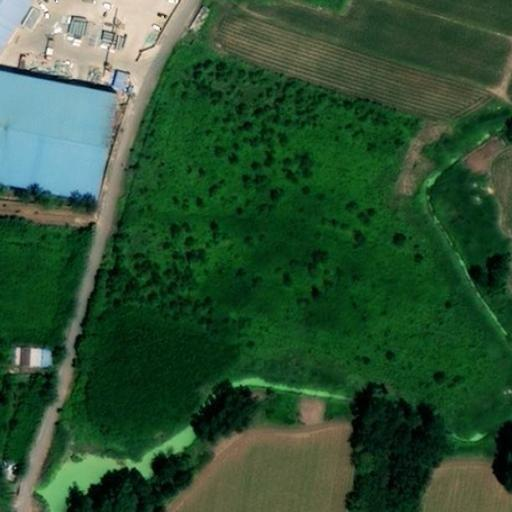building: (0, 91, 123, 228), (456, 129, 509, 176), (7, 341, 51, 367), (107, 65, 130, 90)
